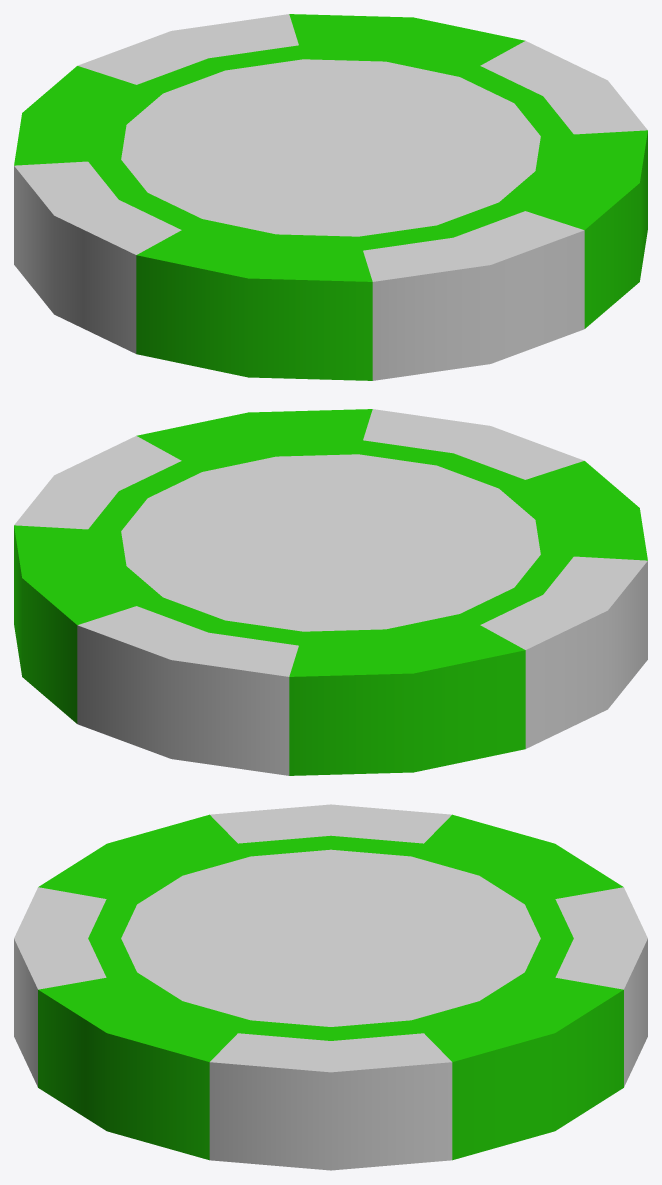
Rendered from green_chips.glb.
3 views of the same model, one above another, from view 1: azimuth 30°, elevation 25°; view 2: azimuth 150°, elevation 25°; view 3: azimuth 270°, elevation 25° (orthographic).
Parts seen in each view (by area): view 1: Cylinder, Cylinder_Mat_0.001; view 2: Cylinder, Cylinder_Mat_0.001; view 3: Cylinder, Cylinder_Mat_0.001.
Part boxes in pixels (x1,y1,x2,y2): Cylinder: (14,14,647,380); Cylinder_Mat_0.001: (14,14,647,380); Cylinder: (14,409,647,775); Cylinder_Mat_0.001: (14,409,647,775); Cylinder: (14,804,647,1170); Cylinder_Mat_0.001: (38,814,623,1160).
Size of the model in its own units: 100 by 17.08 by 100.
